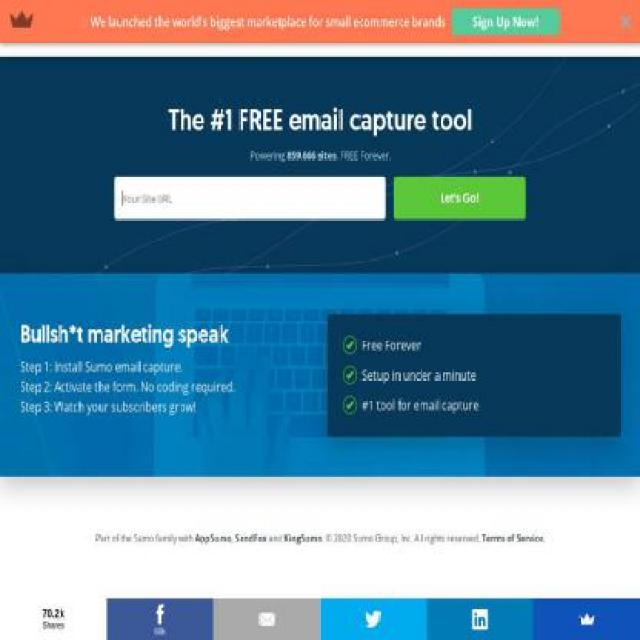button: (0, 0, 640, 45), (394, 177, 526, 220), (318, 598, 428, 639), (106, 598, 214, 639), (213, 598, 321, 639), (426, 598, 534, 639), (533, 598, 639, 639), (452, 8, 559, 35), (560, 13, 618, 42), (22, 19, 84, 36)
field: (114, 177, 386, 220)
